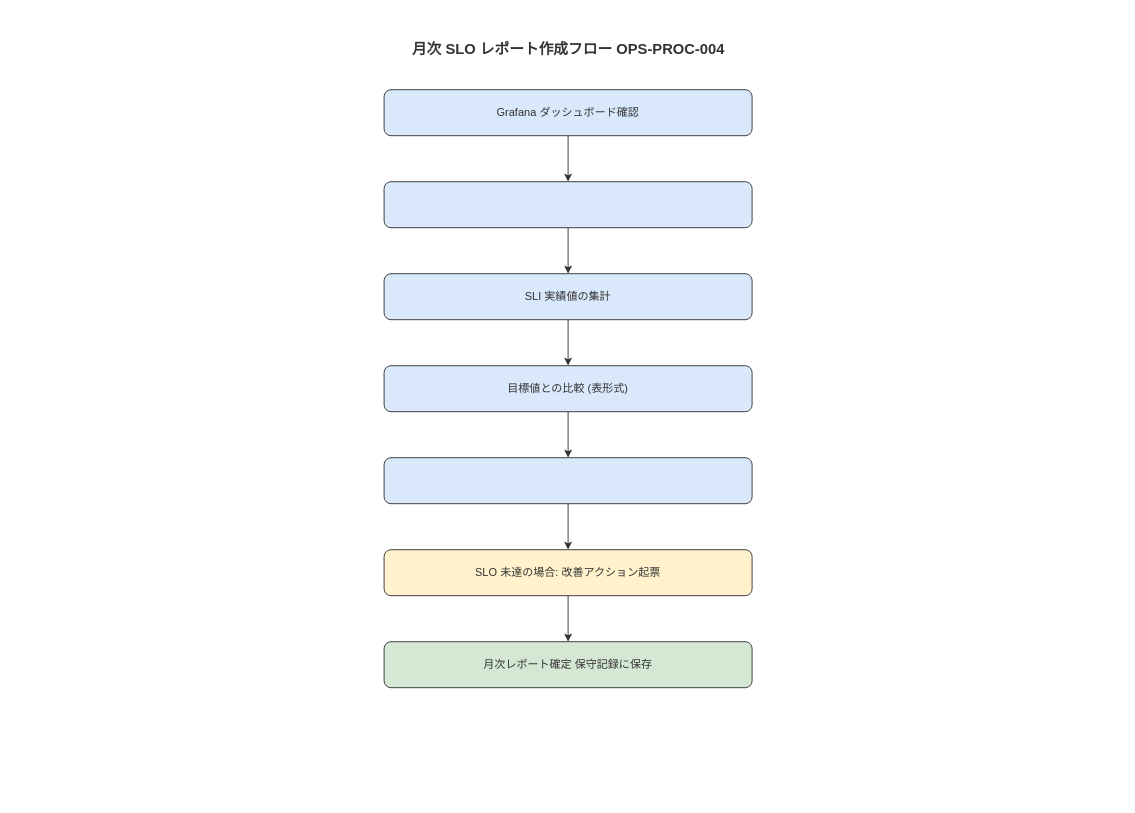
This 1135x813 diagram has some shape labels left out. The shapes that lost their labels are listed below. From the top down, each one's centre as x and y in pixels, then its label:
At pixel 567 204: "PromQL クエリ実行 可用性/P95/DLQ/BAK 齢".
At pixel 567 480: "稼働率/RTO/BAK 成功率 判定".
